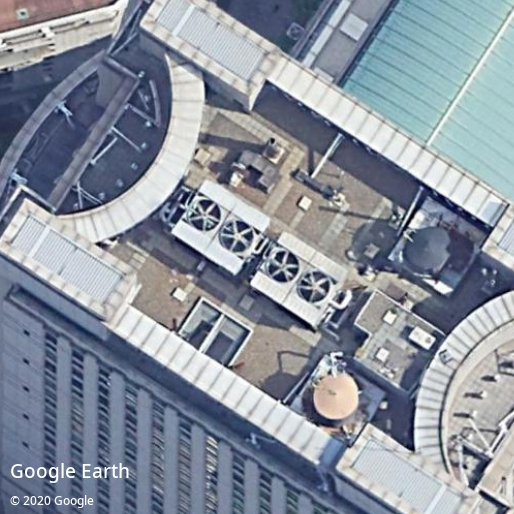Vent: (220, 219, 254, 252), (267, 249, 300, 283), (189, 199, 221, 231), (299, 270, 330, 302)
